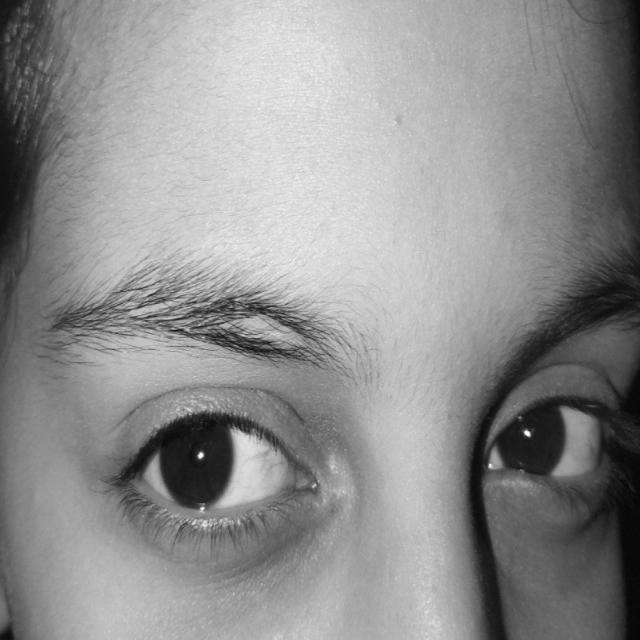real: (67, 294, 628, 598)
